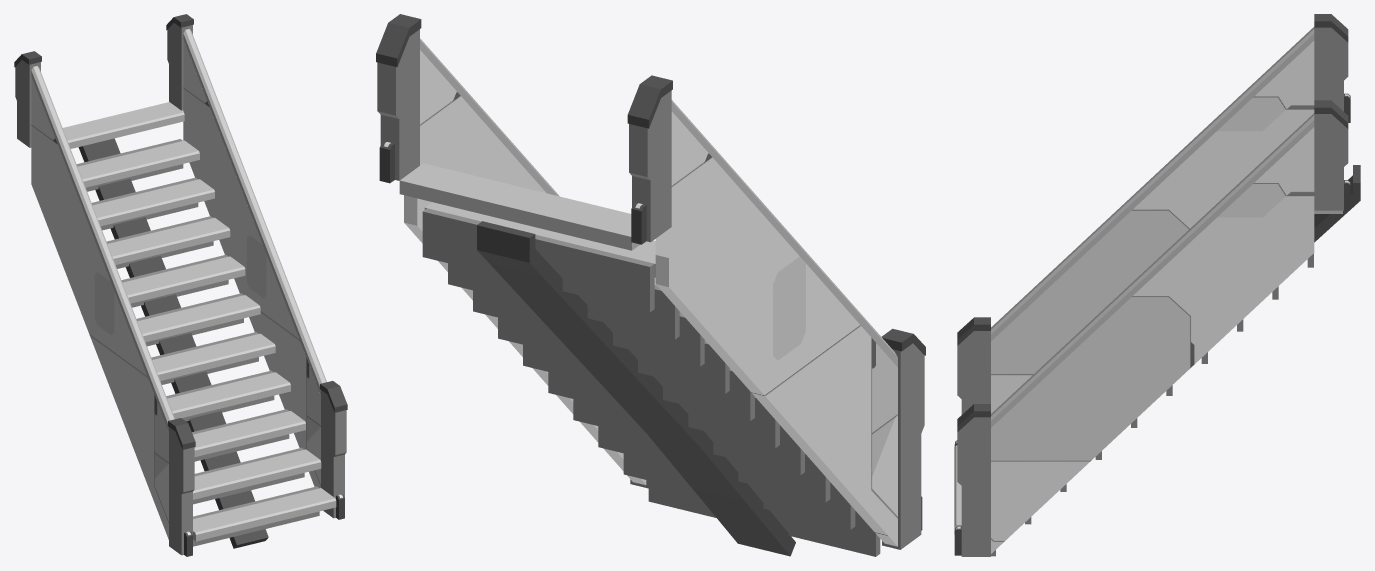
The model's file is SM_Stairs_1.fbx.
3 views of the same model, side by side, from view 1: azimuth 30°, elevation 25°; view 2: azimuth 150°, elevation 25°; view 3: azimuth 270°, elevation 25° (orthographic). The views are drawn at different scales.
Visible parts, largest first — view 1: SM_Stairs_1; view 2: SM_Stairs_1; view 3: SM_Stairs_1.
Boxes of the visible parts, left/top/right/bottom form: SM_Stairs_1: left=14, top=14, right=347, bottom=556; SM_Stairs_1: left=376, top=14, right=925, bottom=556; SM_Stairs_1: left=954, top=14, right=1360, bottom=556.
Size of the model in its own units: 175 by 409 by 319.
